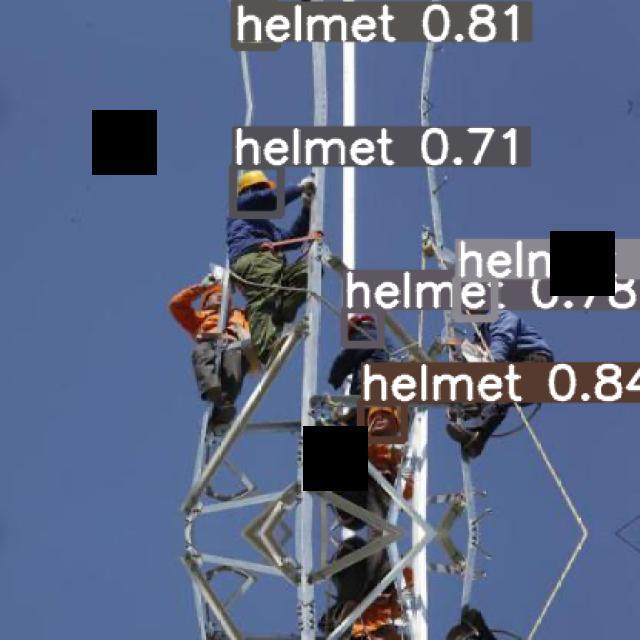red helmet: (194, 279, 242, 320), (365, 393, 408, 434), (343, 303, 378, 343)
yellow helmet: (235, 163, 284, 203)
